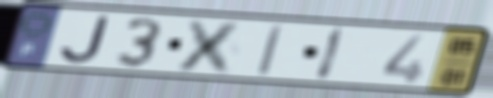3: (113, 17, 164, 68)
4: (379, 32, 429, 85)
I: (312, 25, 350, 83), (254, 22, 287, 79)
J: (57, 14, 114, 65)
X: (170, 17, 250, 77)
